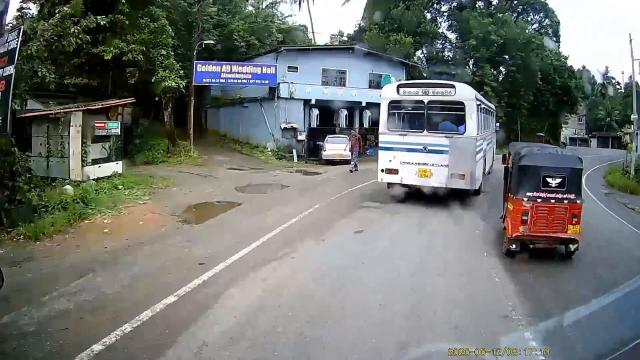illegal overtaking: (499, 132, 589, 263)
